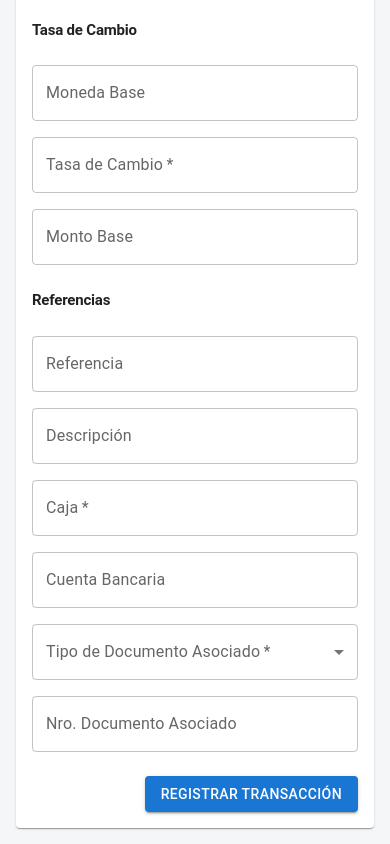
Scenario: TransaccionFinancieraFormPage (react-hook-form + zod) › blocks submit and shows validation when required fields are empty
(page scrolled)
Click the button "Registrar transacción": (251, 794) [145,776,358,812]
(page scrolled)
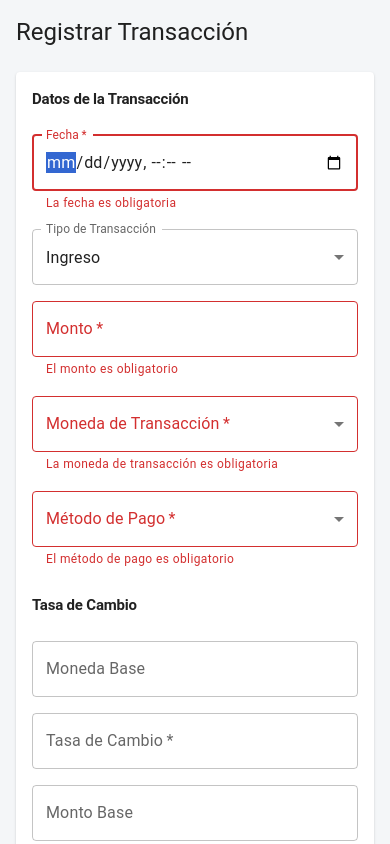
Check: the text "La fecha es obligatoria" is shown, box [46,196,176,210]
Check: the text "El monto es obligatorio" is shown, box [46,362,178,376]
